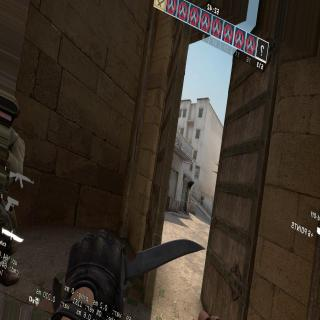CT-Body: (0, 88, 28, 285), (200, 195, 204, 205)
CT-Head: (0, 92, 22, 130), (202, 196, 204, 197)
